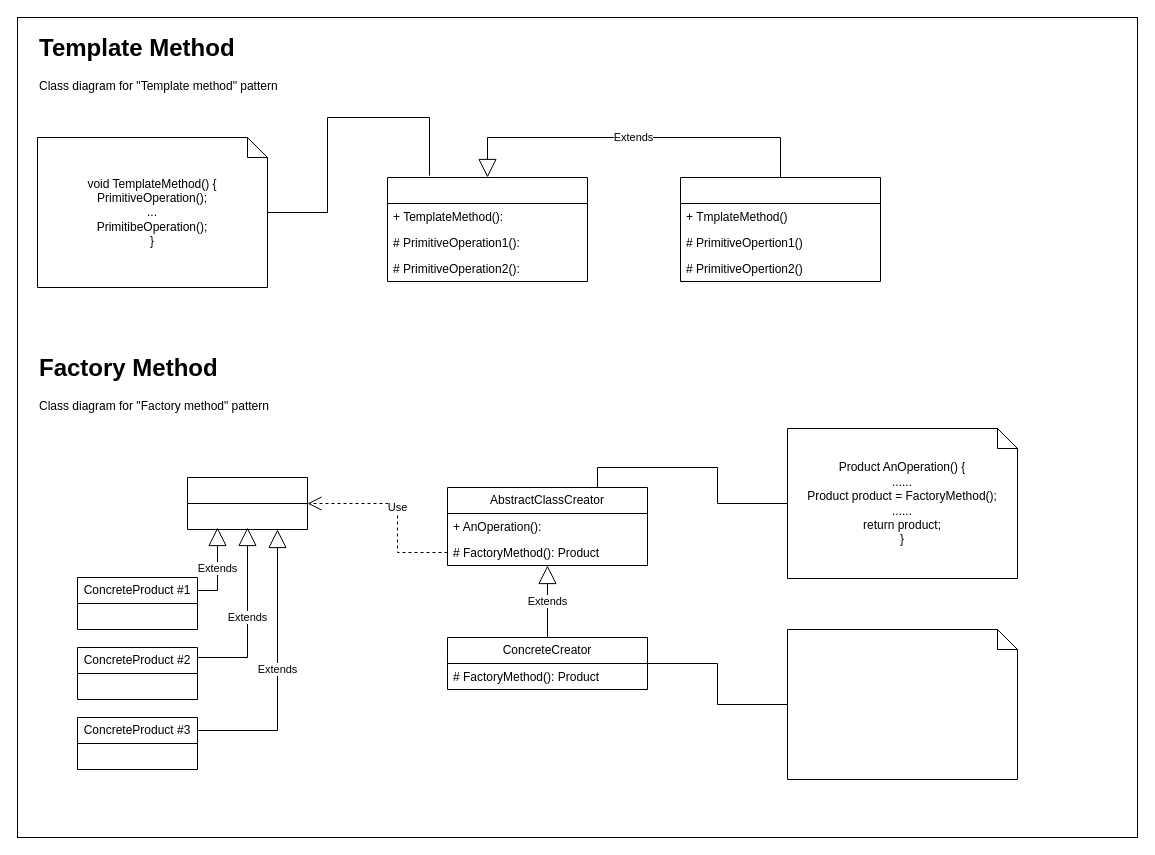
This 1155x855 diagram has some shape labels left out. Each missing label, with the box of its shape:
AbstractClass: (386, 176, 588, 282)
ConcreteClass: (680, 176, 880, 282)
Product: (186, 476, 308, 530)
return ConcreteProduct();: (786, 628, 1018, 780)
